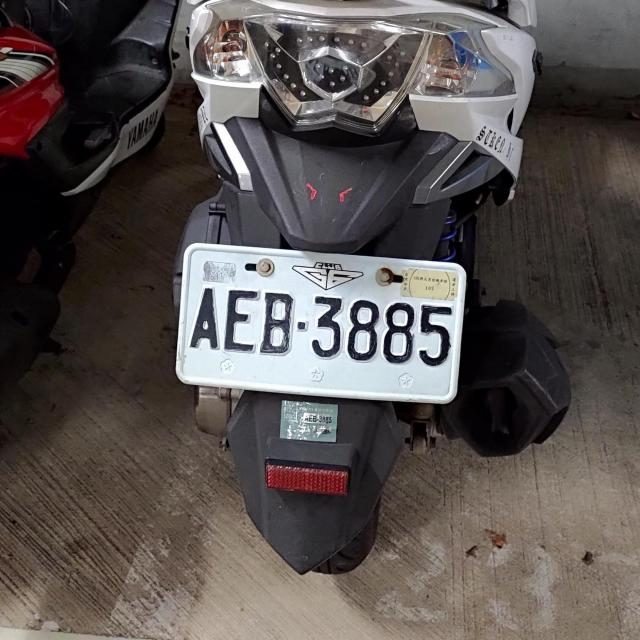W: (172, 243, 471, 402), (471, 117, 522, 170)
